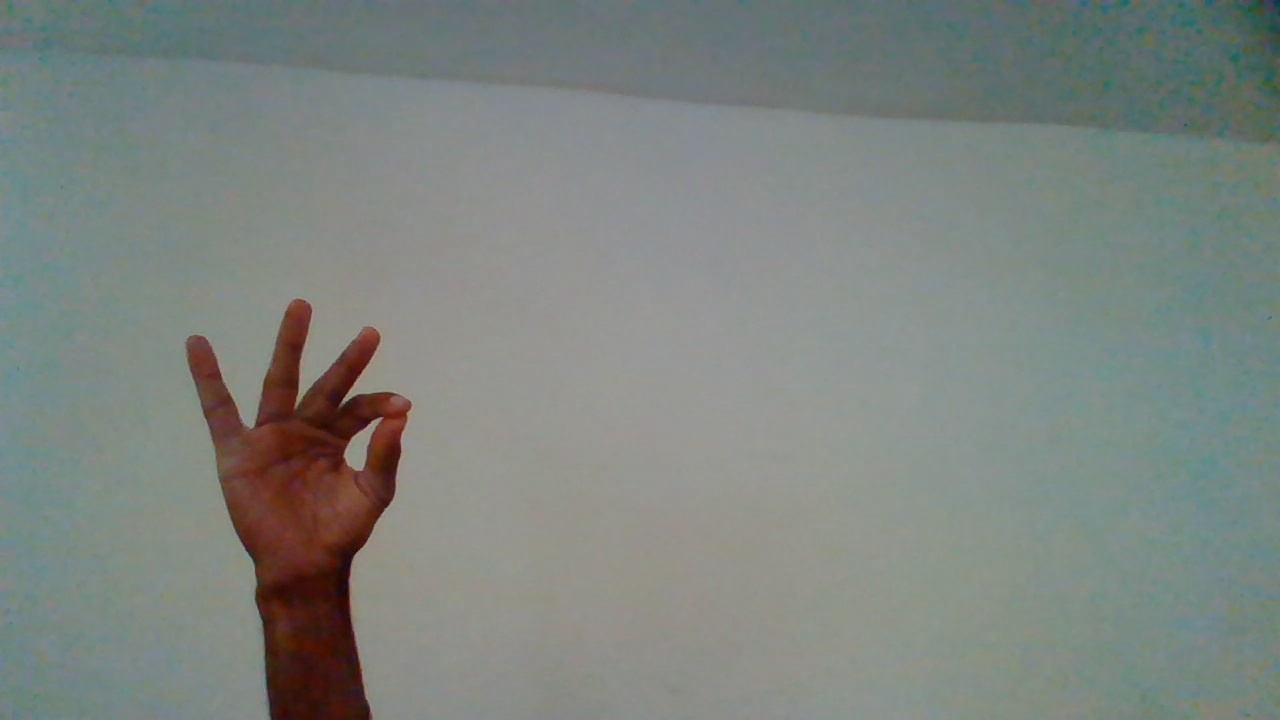le: (176, 299, 414, 699)
